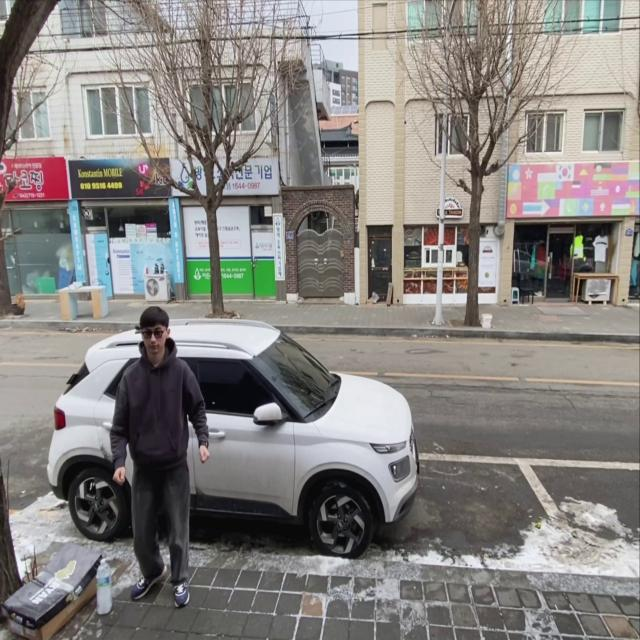bare_hand: (194, 445, 216, 469), (114, 466, 128, 485)
